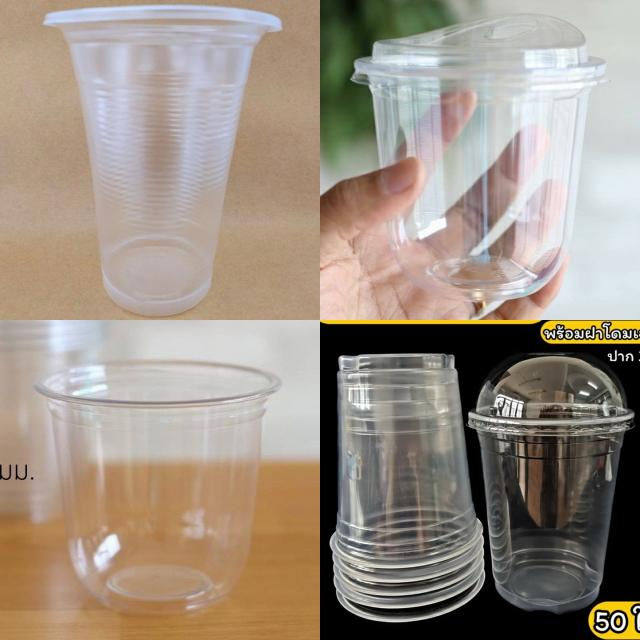Single-Use-Plastic: (45, 6, 281, 316), (354, 16, 606, 302), (36, 361, 278, 614), (469, 355, 634, 613), (330, 354, 485, 622)
